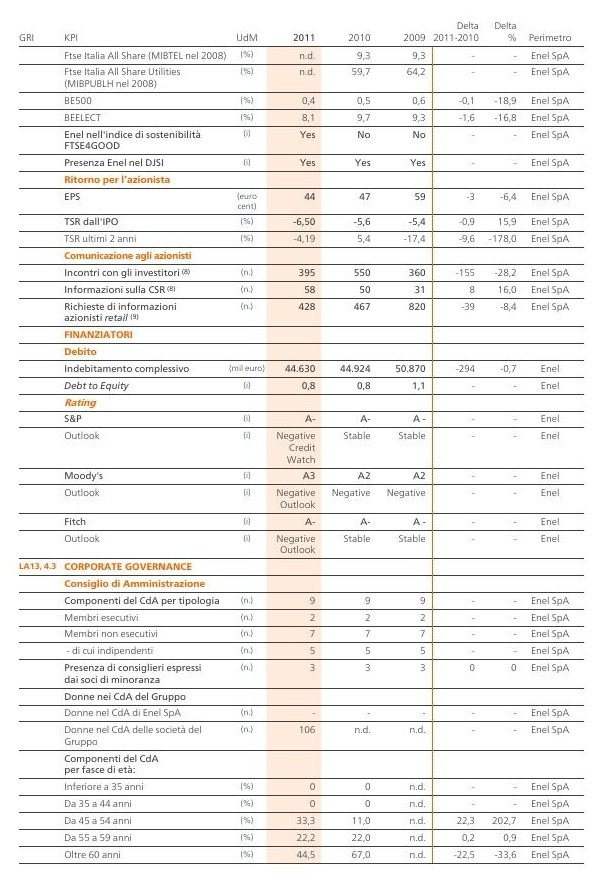table: (0, 0, 604, 884)
